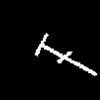double_crochet: (35, 33, 96, 75)
